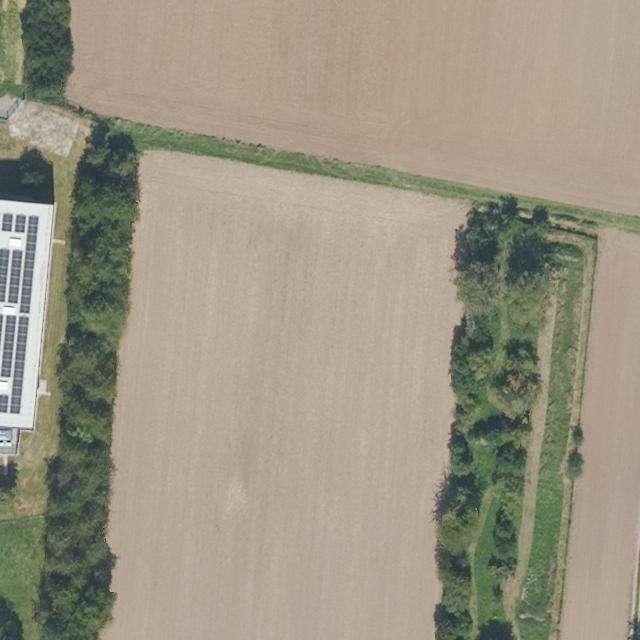PV: (3, 209, 44, 422)
